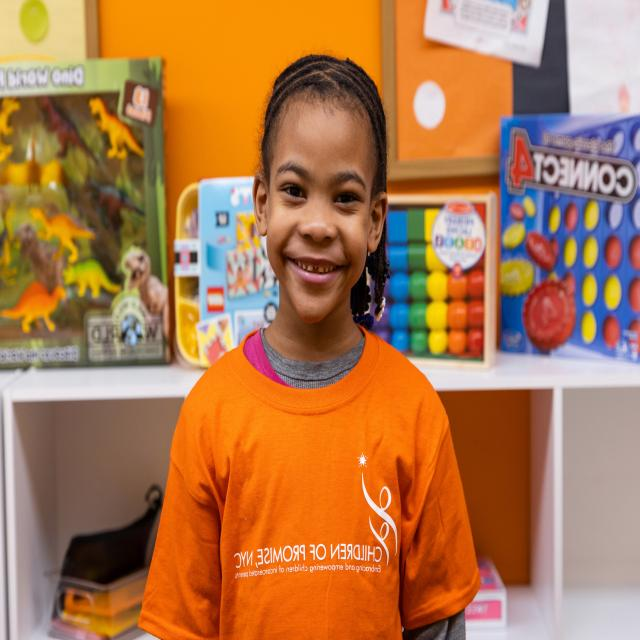child: (135, 49, 479, 640)
